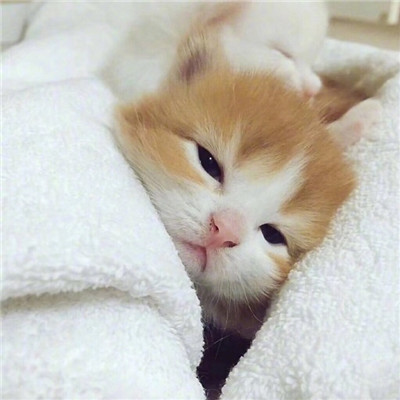cat: (119, 27, 355, 321)
